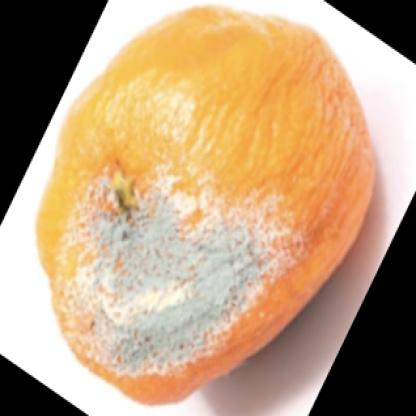rotten: (38, 10, 377, 401)
